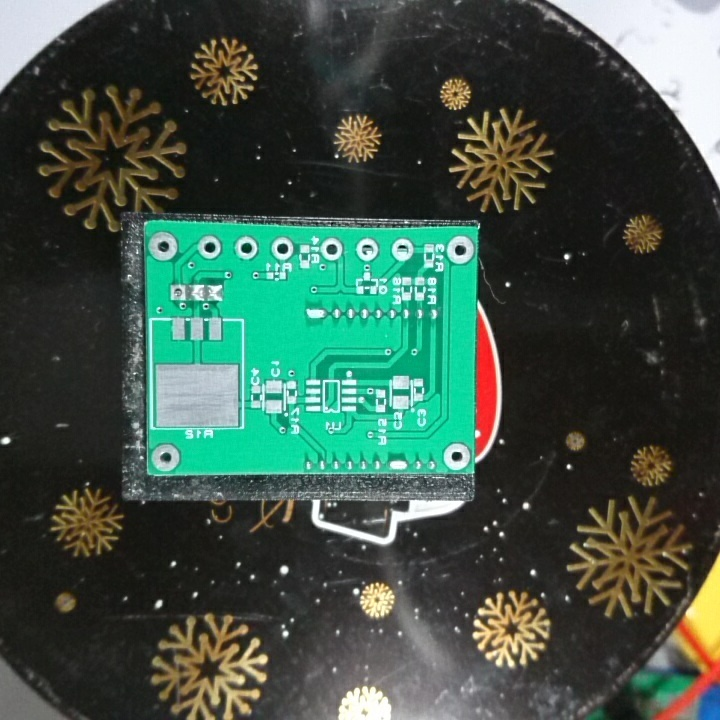F: (145, 229, 179, 262), (150, 441, 183, 473), (444, 236, 476, 268), (441, 439, 470, 472), (233, 235, 261, 263), (388, 235, 415, 264), (353, 237, 381, 264), (319, 236, 345, 263), (270, 235, 294, 263), (196, 235, 222, 258), (166, 282, 188, 304)
P: (303, 303, 329, 324), (387, 453, 410, 474)
